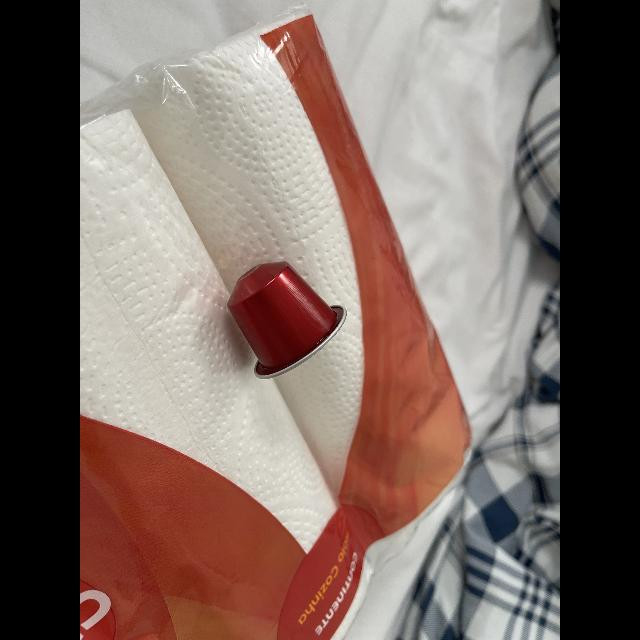intact_capsule: (213, 258, 351, 384)
